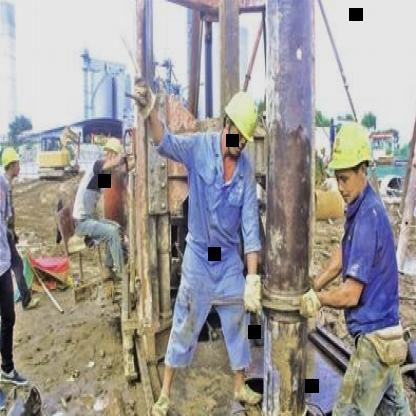helmet: (328, 119, 376, 203), (218, 86, 264, 166), (97, 135, 127, 171), (1, 143, 22, 181)
